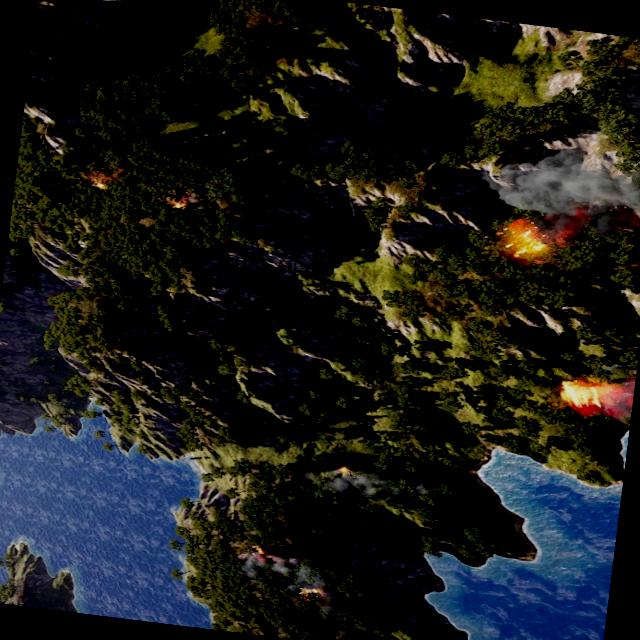fire: (498, 216, 558, 263), (556, 375, 623, 415), (89, 168, 121, 190), (299, 584, 325, 598), (250, 544, 269, 558), (171, 196, 190, 208), (334, 464, 352, 474)
smoke: (480, 50, 640, 242), (235, 548, 344, 604), (320, 463, 430, 508), (584, 349, 638, 422)
